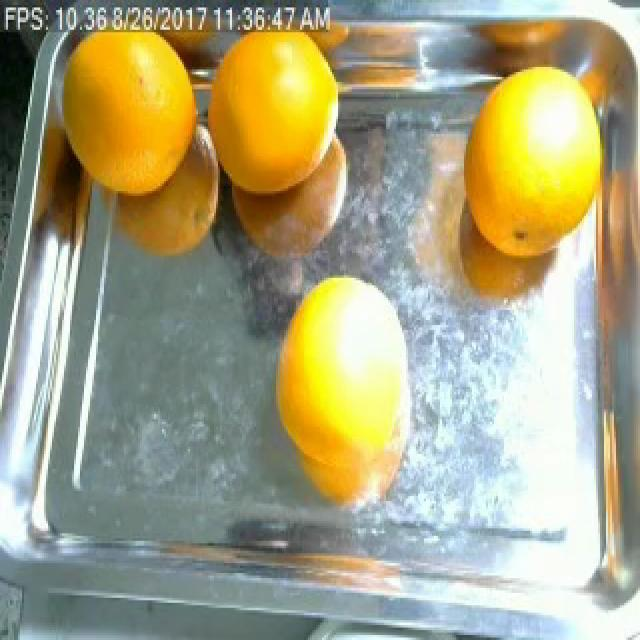Fruit: (44, 12, 206, 221), (192, 12, 350, 221)
